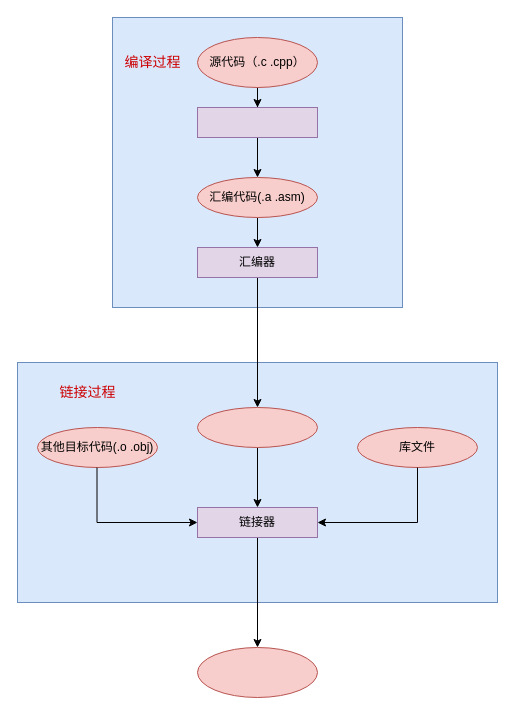
Image size: 515x715. Some labels were removed from this diagram. Here are the shapes that lost their labels. From the top down, the centre of each, then its label:
At point (257, 122): "编译器".
At point (257, 427): "目标代码(.o .obj)".
At point (257, 672): "可执行程序（exe）".
